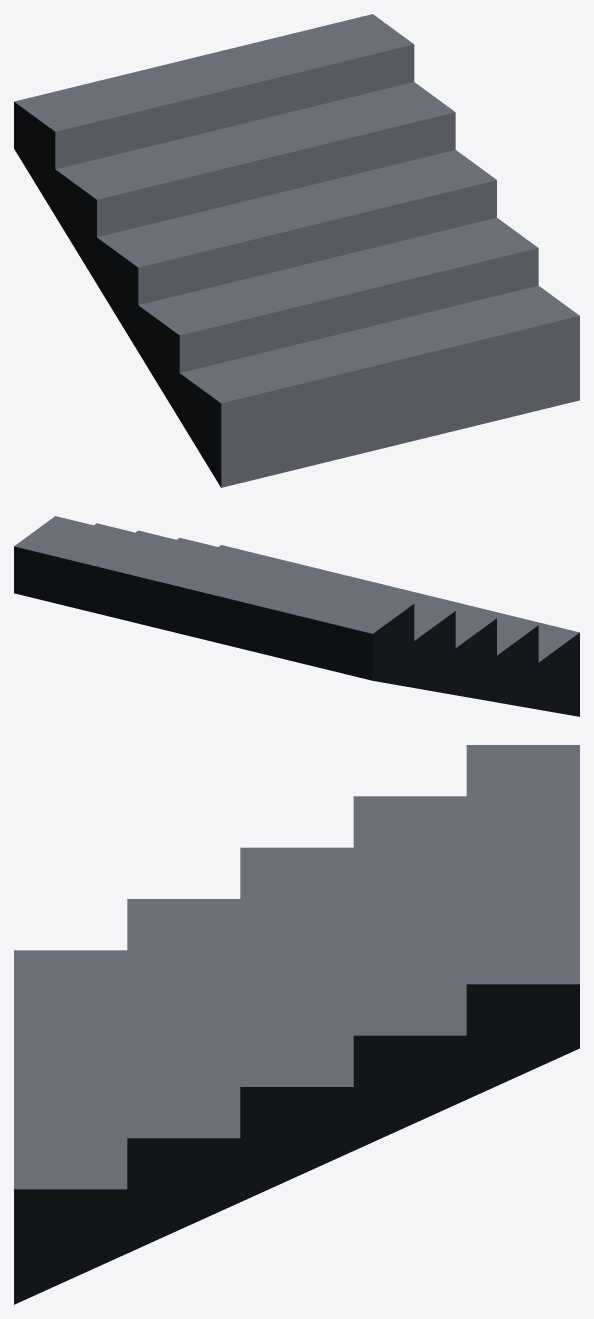
The model's file is sm_Stairs_B_Collider.fbx.
The picture shows the model from 3 angles, top to bottom: view 1: azimuth 30°, elevation 25°; view 2: azimuth 150°, elevation 25°; view 3: azimuth 270°, elevation 25°; orthographic projection. The views are drawn at different scales.
Visible parts, largest first — view 1: Stairs_B_Collider; view 2: Stairs_B_Collider; view 3: Stairs_B_Collider.
Part boxes in pixels (x1,y1,x2,y2): Stairs_B_Collider: (14,14,579,487); Stairs_B_Collider: (14,516,579,716); Stairs_B_Collider: (14,745,579,1304).
Size of the model in its own units: 200 by 125 by 200.
